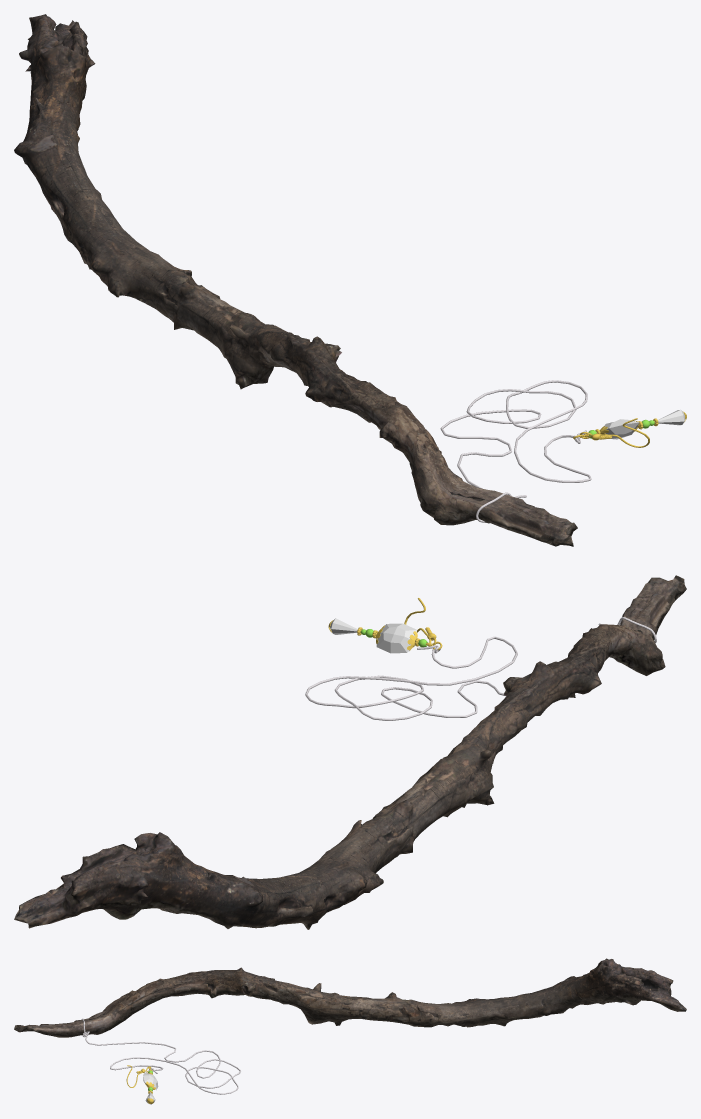
Rendered from fishing rod model.fbx.
3 renders of one model, top to bottom at view 1: azimuth 30°, elevation 25°; view 2: azimuth 150°, elevation 25°; view 3: azimuth 270°, elevation 25°, orthographic. The views are drawn at different scales.
Visible parts, largest first — view 1: dry_branches_medium_01_b.003, Plane.038; view 2: dry_branches_medium_01_b.003, Plane.038, Cube.148; view 3: dry_branches_medium_01_b.003, Plane.038.
Part boxes in pixels (bbox=[...]): dry_branches_medium_01_b.003: bbox=[14, 14, 577, 546]; Plane.038: bbox=[440, 380, 591, 522]; dry_branches_medium_01_b.003: bbox=[14, 575, 686, 929]; Plane.038: bbox=[305, 617, 656, 720]; Cube.148: bbox=[376, 623, 416, 653]; dry_branches_medium_01_b.003: bbox=[14, 958, 686, 1037]; Plane.038: bbox=[82, 1018, 240, 1094].
Size of the model in its own units: 170 by 72.25 by 527.
